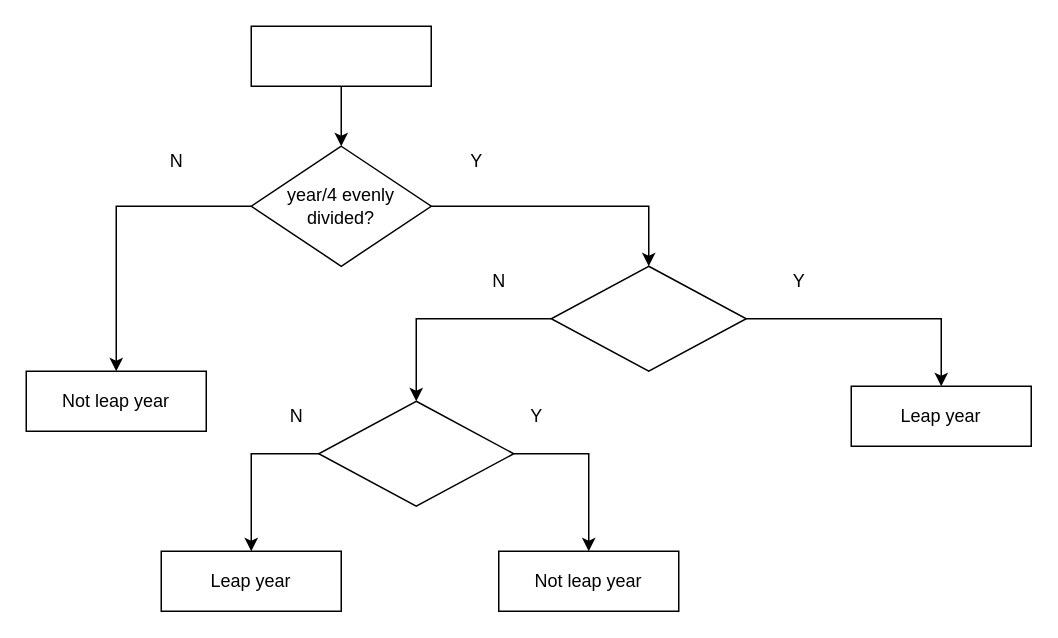
The diagram is 1058 pixels wide and 638 high, and some of its shapes have lost their labels. Here are the shapes that lost their labels. From the top down, the centre of each, then its label:
point 340,55: year
point 648,318: year/400 evenly divided?
point 415,453: year/100 evenly divided?
